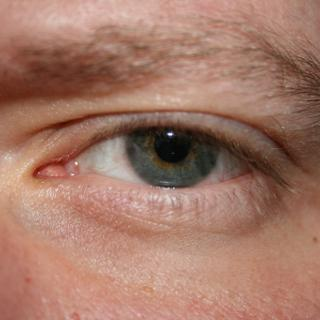iris: (125, 98, 220, 193)
